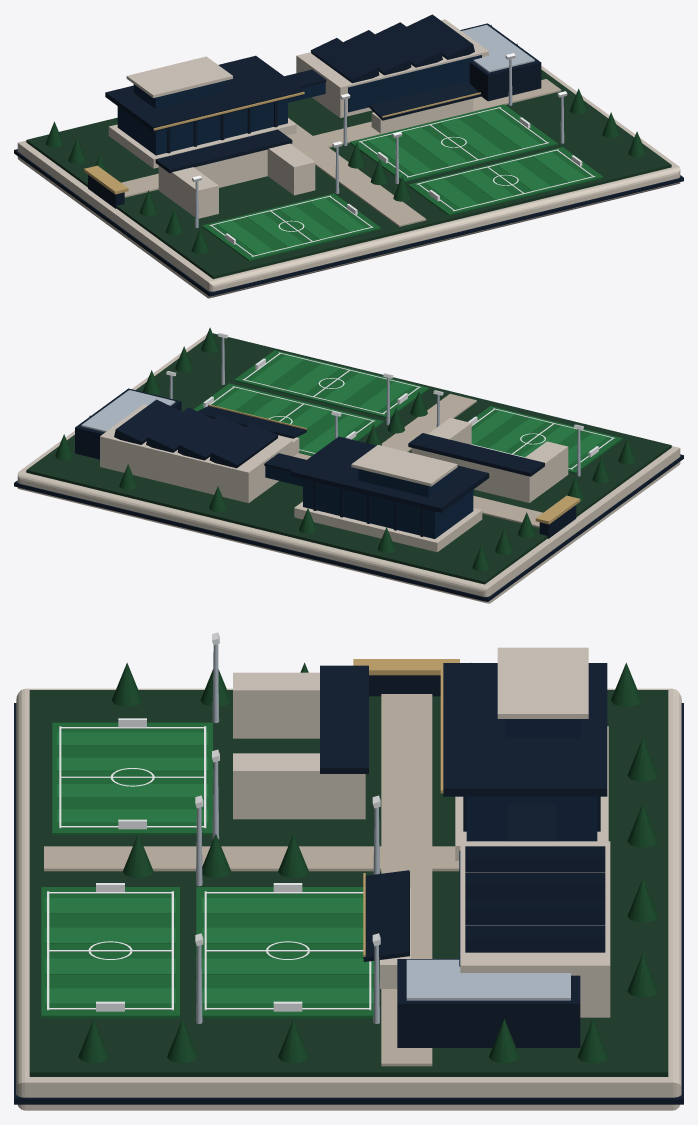
The model's file is apex_performance_campus.glb.
3 views of the same model, one above another, from view 1: azimuth 30°, elevation 25°; view 2: azimuth 150°, elevation 25°; view 3: azimuth 270°, elevation 25° (orthographic). The views are drawn at different scales.
Parts seen in each view (by area): view 1: GTEX_Apex_Academy_Campus; view 2: GTEX_Apex_Academy_Campus; view 3: GTEX_Apex_Academy_Campus.
Boxes of the visible parts, x1,y1,x2,y2 form: GTEX_Apex_Academy_Campus: (14,14,683,298); GTEX_Apex_Academy_Campus: (14,327,683,603); GTEX_Apex_Academy_Campus: (14,632,683,1110).
Bounding box in the file's own units: 8.44 × 1.39 × 6.04.
